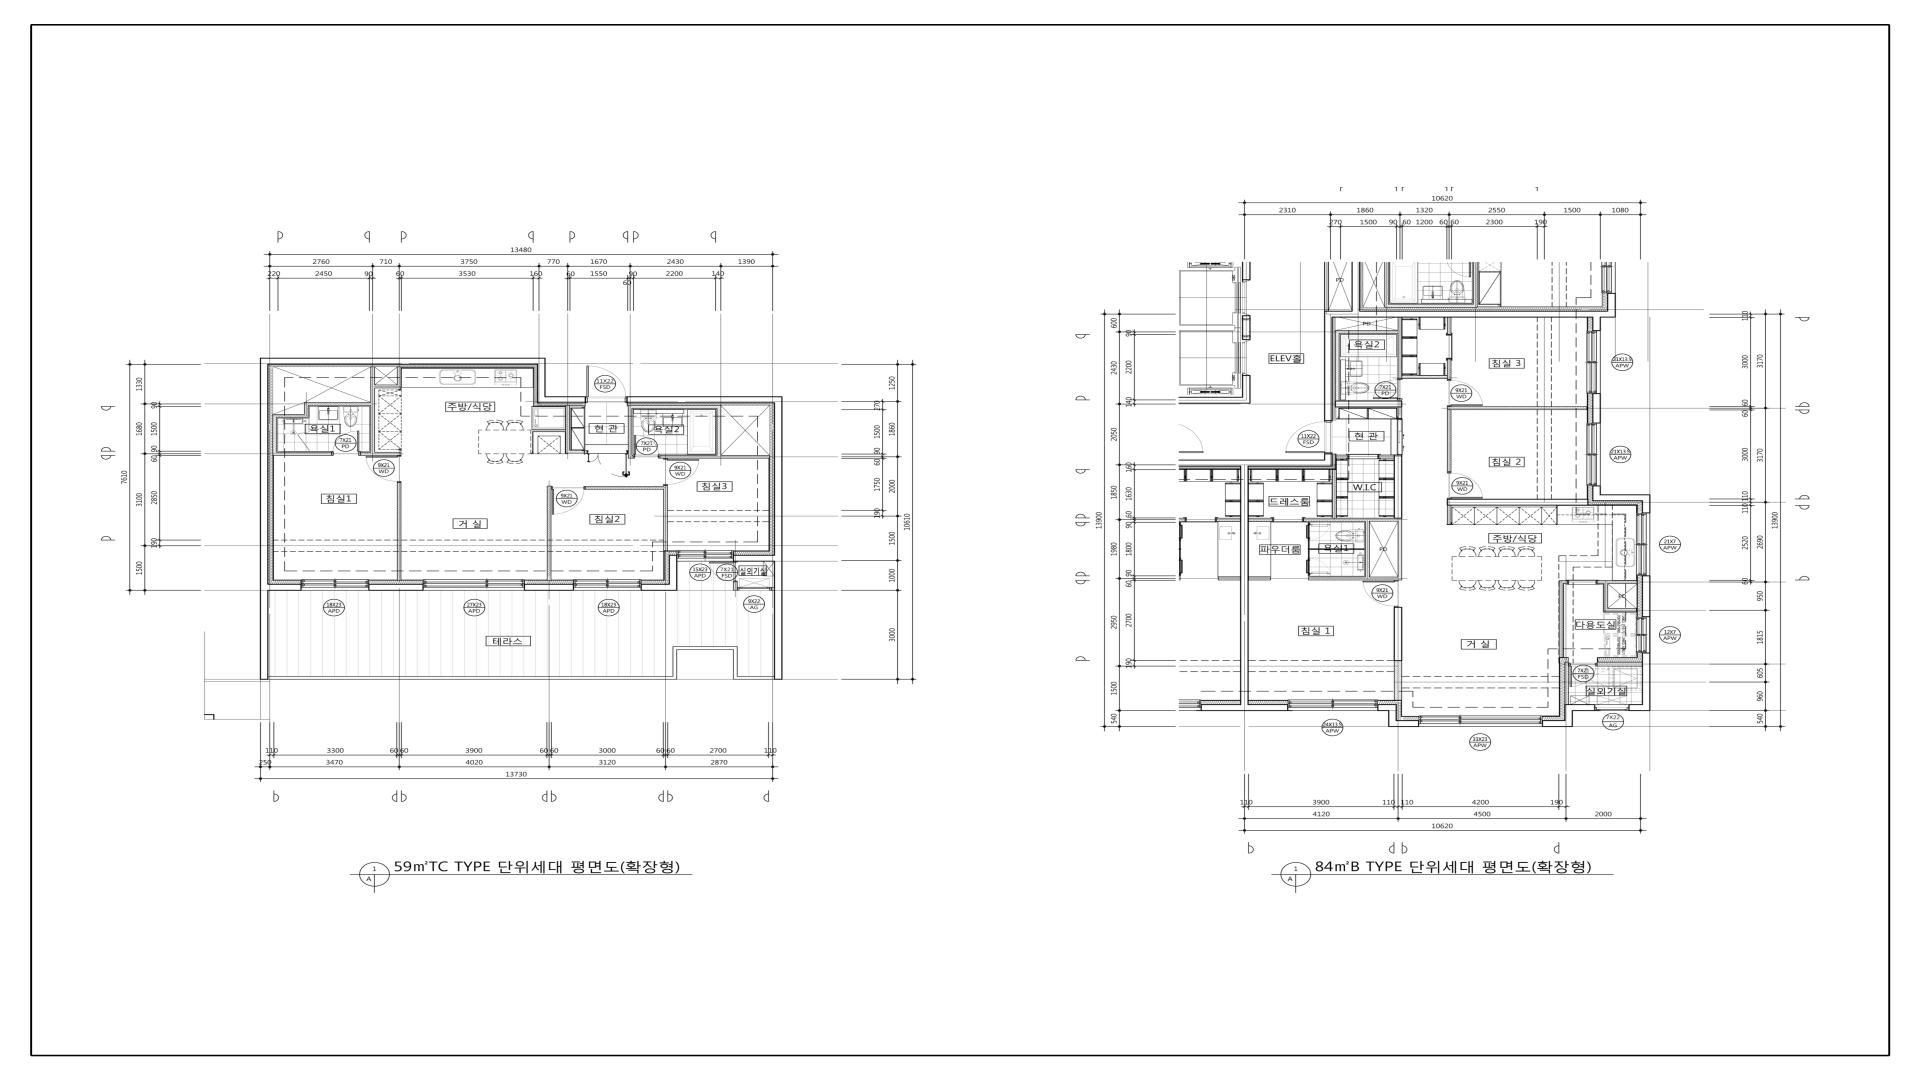door: (585, 365, 628, 404), (1286, 421, 1332, 454), (365, 455, 401, 483), (1362, 580, 1399, 607), (1447, 472, 1484, 498), (551, 487, 585, 514), (663, 459, 699, 485), (1447, 380, 1482, 406), (332, 430, 360, 456), (1569, 663, 1597, 687), (1373, 378, 1402, 401), (633, 435, 659, 459), (709, 562, 737, 582), (1305, 558, 1331, 576), (1307, 522, 1331, 541), (297, 431, 310, 451), (1398, 418, 1403, 455), (1273, 517, 1304, 522), (1348, 454, 1379, 459), (1447, 332, 1452, 360), (1568, 580, 1597, 584)
wall: (269, 357, 546, 365), (1240, 467, 1249, 704), (260, 357, 269, 591), (1324, 311, 1615, 318), (774, 402, 783, 591), (626, 396, 782, 404), (1447, 498, 1589, 506), (1179, 460, 1332, 467), (1324, 318, 1333, 421), (1394, 607, 1403, 700), (1201, 704, 1288, 711), (1447, 406, 1588, 410), (1394, 455, 1402, 518), (1642, 653, 1651, 704), (1179, 397, 1250, 404), (1335, 401, 1403, 407), (659, 455, 770, 459), (397, 483, 401, 580), (1352, 262, 1360, 311), (1642, 576, 1651, 617), (547, 485, 551, 580), (369, 584, 423, 591), (1308, 576, 1398, 580), (537, 365, 546, 404), (628, 405, 716, 409), (371, 367, 375, 452), (669, 555, 678, 591), (1447, 410, 1452, 472), (525, 584, 574, 591), (1593, 495, 1642, 501), (1398, 318, 1403, 378), (1365, 521, 1370, 576), (1559, 584, 1563, 657), (733, 555, 774, 562), (1336, 334, 1340, 401), (628, 409, 633, 459), (305, 402, 371, 406), (663, 485, 667, 551), (546, 397, 585, 404), (1304, 518, 1402, 521), (564, 405, 570, 454), (1332, 469, 1337, 518), (1324, 262, 1329, 311), (1336, 330, 1398, 334), (1593, 393, 1601, 423), (1398, 521, 1402, 580), (1564, 662, 1569, 704), (269, 584, 301, 591), (585, 487, 663, 489), (1543, 720, 1573, 727), (717, 405, 721, 455), (1242, 315, 1250, 340), (641, 584, 669, 591), (1597, 662, 1642, 666), (1402, 375, 1447, 378), (1642, 495, 1651, 513), (1242, 376, 1250, 397), (1597, 580, 1638, 584), (1629, 704, 1651, 711), (1396, 720, 1419, 727), (273, 418, 277, 455), (277, 452, 332, 455), (1564, 704, 1573, 720), (1573, 704, 1594, 711), (1242, 262, 1250, 280), (1389, 711, 1396, 727), (273, 414, 305, 418), (1378, 704, 1396, 711), (1607, 608, 1638, 612), (1604, 584, 1607, 612), (360, 452, 401, 455), (1447, 505, 1452, 525), (1447, 360, 1452, 380), (1593, 318, 1601, 331), (1249, 518, 1273, 522), (1249, 576, 1271, 580), (1447, 318, 1452, 332), (1309, 549, 1365, 550), (375, 385, 402, 388), (397, 367, 401, 385), (1593, 485, 1601, 495), (570, 450, 584, 454), (1379, 455, 1394, 459), (1324, 454, 1332, 460), (1336, 455, 1348, 459), (305, 406, 309, 418), (1398, 407, 1402, 418), (733, 582, 737, 591), (1559, 580, 1568, 584), (1308, 541, 1309, 558), (309, 418, 310, 431), (771, 587, 774, 591)
window: (1419, 716, 1542, 727), (423, 579, 525, 591), (1288, 700, 1378, 711), (1636, 513, 1651, 576), (1586, 331, 1601, 393), (1586, 423, 1601, 485), (301, 579, 369, 591), (574, 579, 641, 591), (676, 550, 733, 562), (1636, 617, 1651, 653), (1596, 704, 1629, 711), (737, 587, 771, 591)
